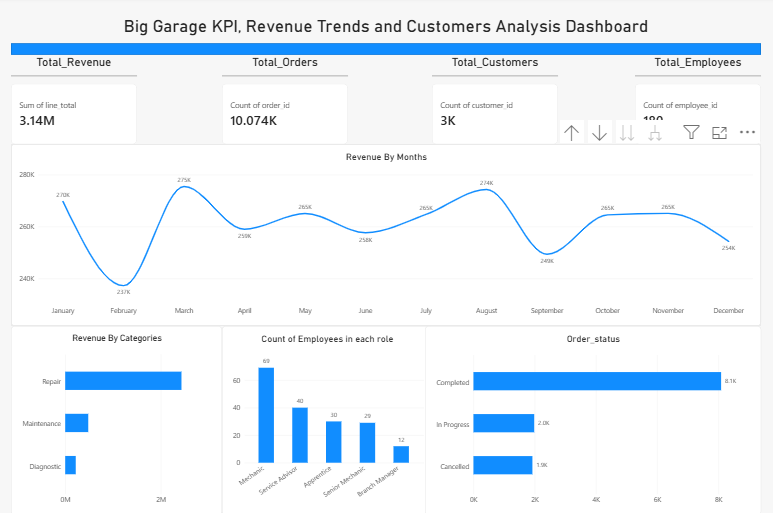

The page's visual inventory and layout, read from the dashboard file:
{"tool":"powerbi","page":{"name":"Page 1","canvas":[1920,1080],"ordinal":0},"visuals":[{"type":"cardVisual","title":"Total_Revenue","fields":{"Data":["Sum(gold_fact_service_order_items.line_total)"]},"box":[193.9,120.9,262.7,185.6],"z":0},{"type":"cardVisual","title":"Total_Orders","fields":{"Data":["Count(gold_fact_service_order_items.order_id)"]},"box":[633.8,120.9,262.7,185.6],"z":1000},{"type":"cardVisual","title":"Total_Customers","fields":{"Data":["CountNonNull(gold_dim_customers.customer_id)"]},"box":[1071.7,120.9,262.7,185.6],"z":2000},{"type":"cardVisual","title":"Total_Employees","fields":{"Data":["CountNonNull(gold_dim_employees.employee_id)"]},"box":[1494.9,120.9,262.7,185.6],"z":3000},{"type":"barChart","title":"Revenue By Categories","fields":{"Category":["dim_categoies.category"],"Y":["Sum(gold_fact_service_order_items.line_total)"]},"box":[193.9,685.9,439.9,394.1],"z":4000},{"type":"lineChart","title":"Revenue By Months","fields":{"Category":["gold_fact_service_orders.order_date.Variation.Date Hierarchy.Year","gold_fact_service_orders.order_date.Variation.Date Hierarchy.Quarter","gold_fact_service_orders.order_date.Variation.Date Hierarchy.Month"],"Y":["Sum(gold_fact_service_order_items.line_total)"]},"box":[193.9,306.5,1563.7,379.5],"z":5000},{"type":"columnChart","title":"Count of Employees in each role","fields":{"Category":["gold_dim_employees.role"],"Y":["CountNonNull(gold_dim_employees.employee_id)"]},"box":[633.8,685.9,437.8,394.1],"z":5001},{"type":"barChart","title":"Order_status","fields":{"Category":["dim_pay_status.status"],"Y":["CountNonNull(gold_fact_service_orders.pay_status_id)"]},"box":[1057.1,685.9,700.5,394.1],"z":5002},{"type":"shape","title":"Big Garage KPI, Revenue Trends and Customers Analysis Dashboard ","box":[193.9,39.6,1563.7,81.3],"z":5003}]}

Visuals, with their boxes on the page's 1920x1080 design canvas (x1, y1, x2, y2). These are canvas units, not pixel positions in the 773x513 screenshot, which may show the page scaled, cropped or inside an application window:
"Total_Revenue" cardVisual: rect(194, 121, 457, 306)
"Total_Orders" cardVisual: rect(634, 121, 896, 306)
"Total_Customers" cardVisual: rect(1072, 121, 1334, 306)
"Total_Employees" cardVisual: rect(1495, 121, 1758, 306)
"Revenue By Categories" barChart: rect(194, 686, 634, 1080)
"Revenue By Months" lineChart: rect(194, 306, 1758, 686)
"Count of Employees in each role" columnChart: rect(634, 686, 1072, 1080)
"Order_status" barChart: rect(1057, 686, 1758, 1080)
"Big Garage KPI, Revenue Trends and Customers Analysis Dashboard " shape: rect(194, 40, 1758, 121)
